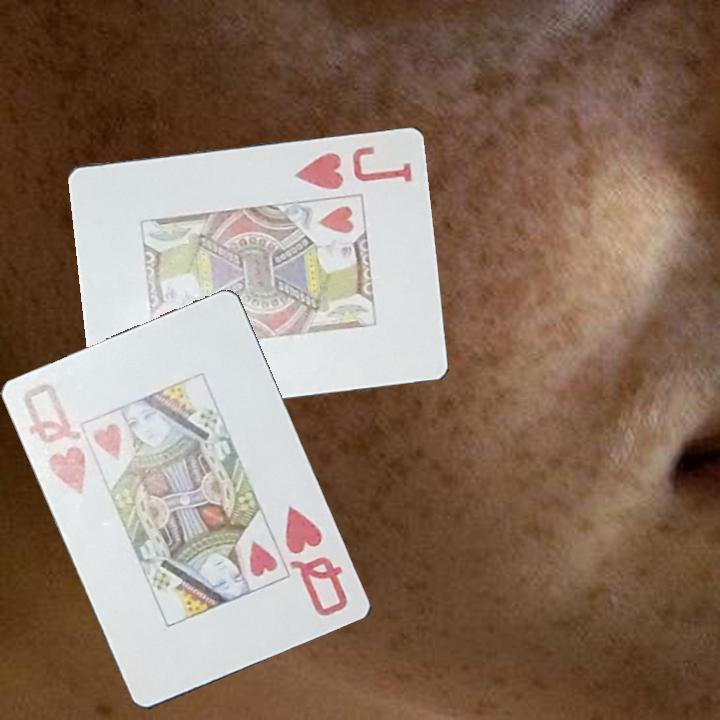Jh: (291, 142, 416, 192)
Qh: (281, 502, 356, 623), (19, 380, 90, 498)
